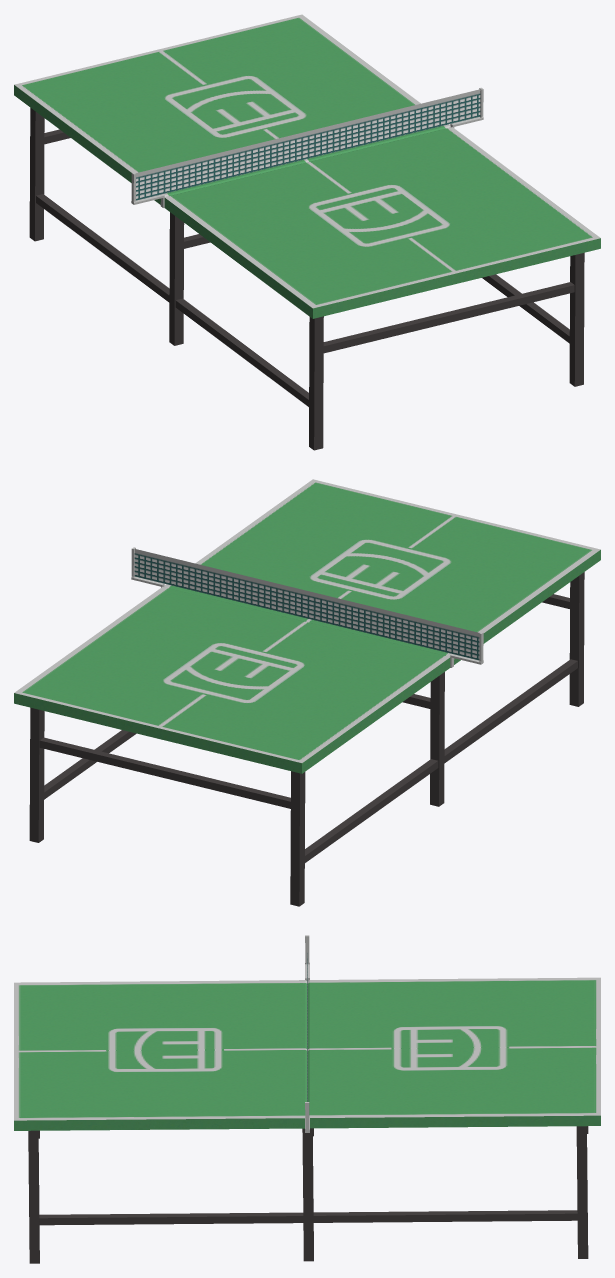
File: pingpong table.glb
3 views of the same model, one above another, from view 1: azimuth 30°, elevation 25°; view 2: azimuth 150°, elevation 25°; view 3: azimuth 270°, elevation 25° (orthographic).
Visible parts, largest first — view 1: PingPongTable; view 2: PingPongTable; view 3: PingPongTable.
Boxes of the visible parts, x1,y1,x2,y2 form: PingPongTable: [14, 14, 600, 450]; PingPongTable: [14, 479, 600, 906]; PingPongTable: [14, 935, 600, 1263].
Size of the model in its own units: 1.85 by 0.9264 by 2.74.
Materials: 1 (1 with a texture image).
